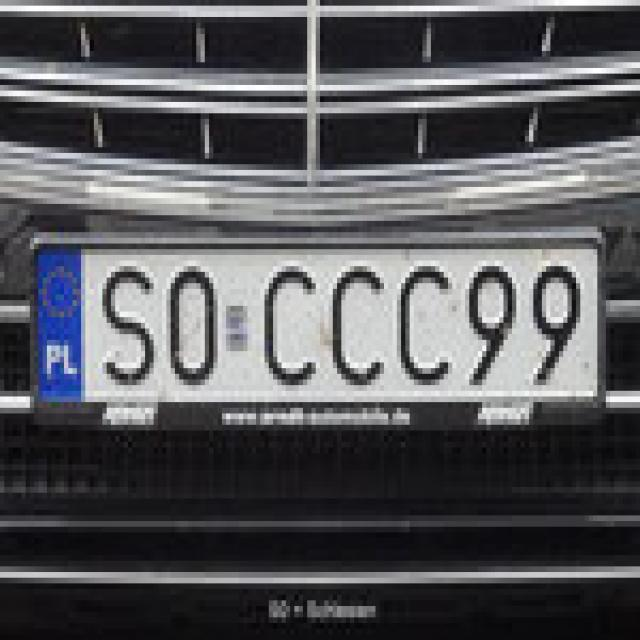pl_license_plate: (30, 232, 597, 396)
